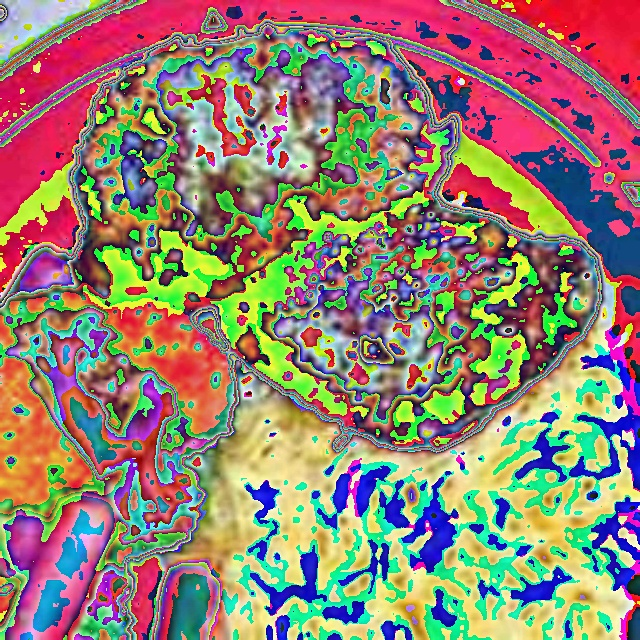background: (0, 25, 640, 639)
